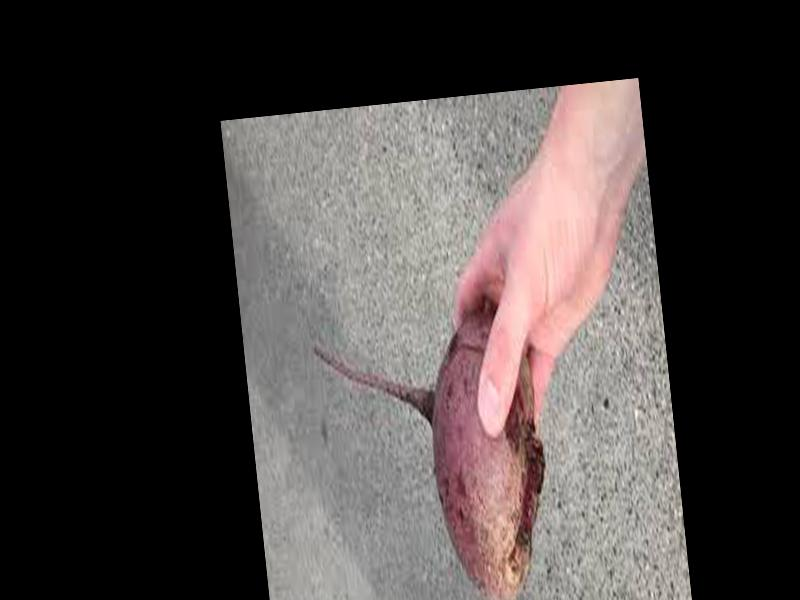Beet: (313, 314, 558, 600)
